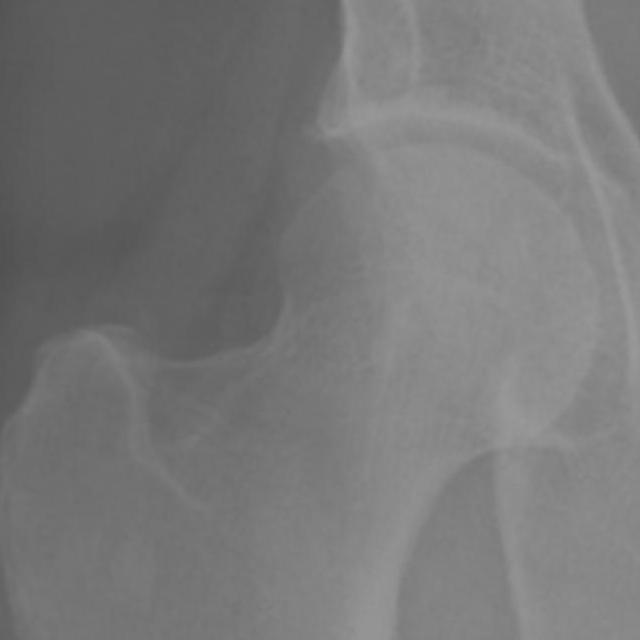Fitted_femural_head: (322, 152, 432, 322)
